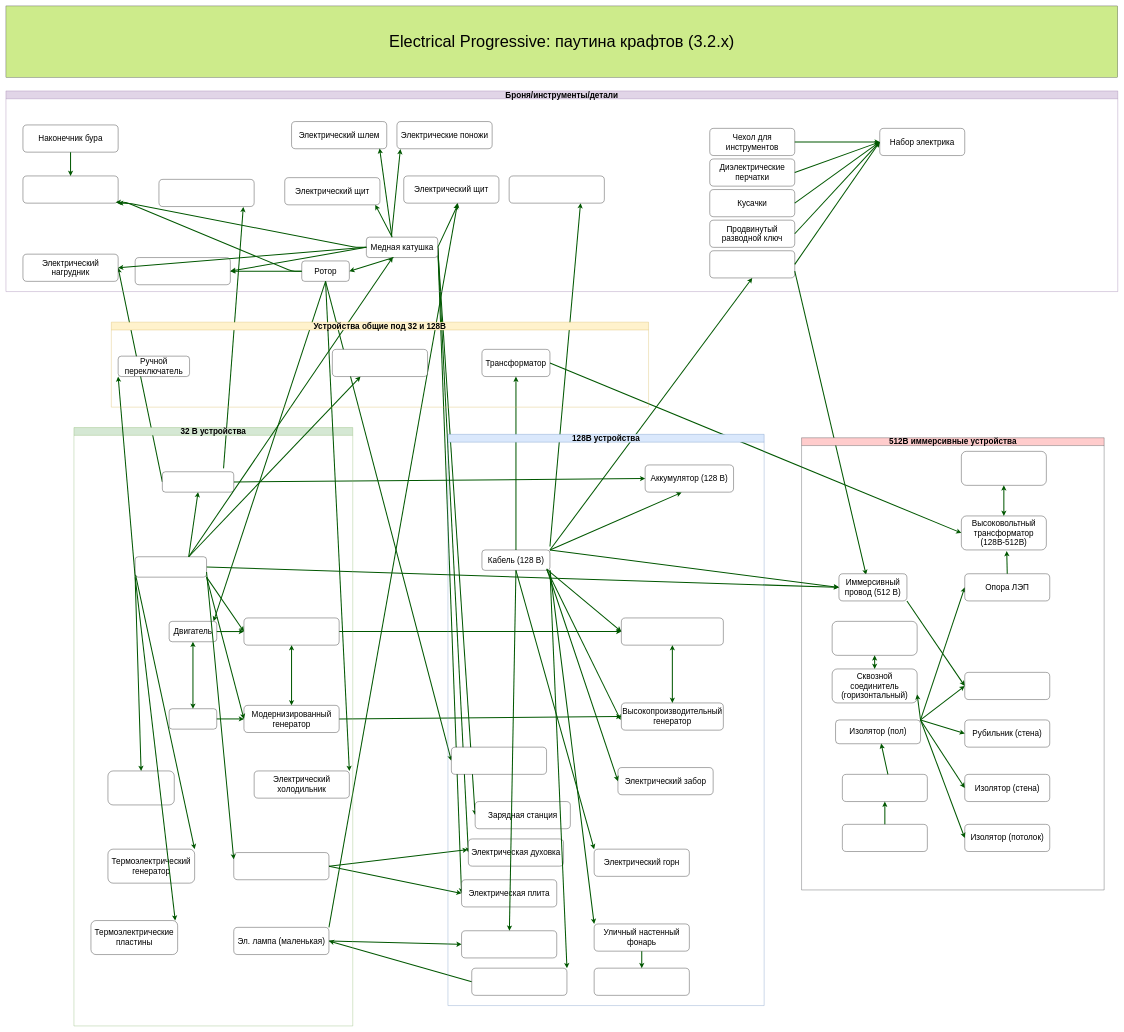
Image size: 1124x1032. Some labels were removed from this diagram. The shapes that lost their labels are listed below. From the top down, each one's centre as x and y in pixels, then its label:
At point 70,189: "Электрический бур".
At point 206,193: "Электрический планер".
At point 556,189: "Электрическое копье".
At point 182,271: "Электрический топор".
At point 752,264: "Электрический паяльник".
At point 380,363: "Сквозной разъем (обычный)".
At point 198,481: "Аккумулятор (32В)".
At point 1003,468: "Высоковольтный трансформатор (512В-128В)".
At point 171,566: "Кабель (32 В)".
At point 291,631: "Модернизированный двигатель".
At point 672,631: "Высокопроизводительный двигатель".
At point 874,638: "Сквозной соединитель (вертикальный)".
At point 1007,686: "Уличное освещение".
At point 193,718: "Генератор".
At point 499,760: "Электрический морозильник".
At point 141,788: "Генератор на солнечных батареях".
At point 884,788: "Изолятор".
At point 884,838: "Изолятор (необож.)".
At point 281,866: "Электрический нагреватель".
At point 509,944: "Тепловая пушка".
At point 519,981: "Электрическая лампа".
At point 641,981: "Уличный наземный фонарь".
